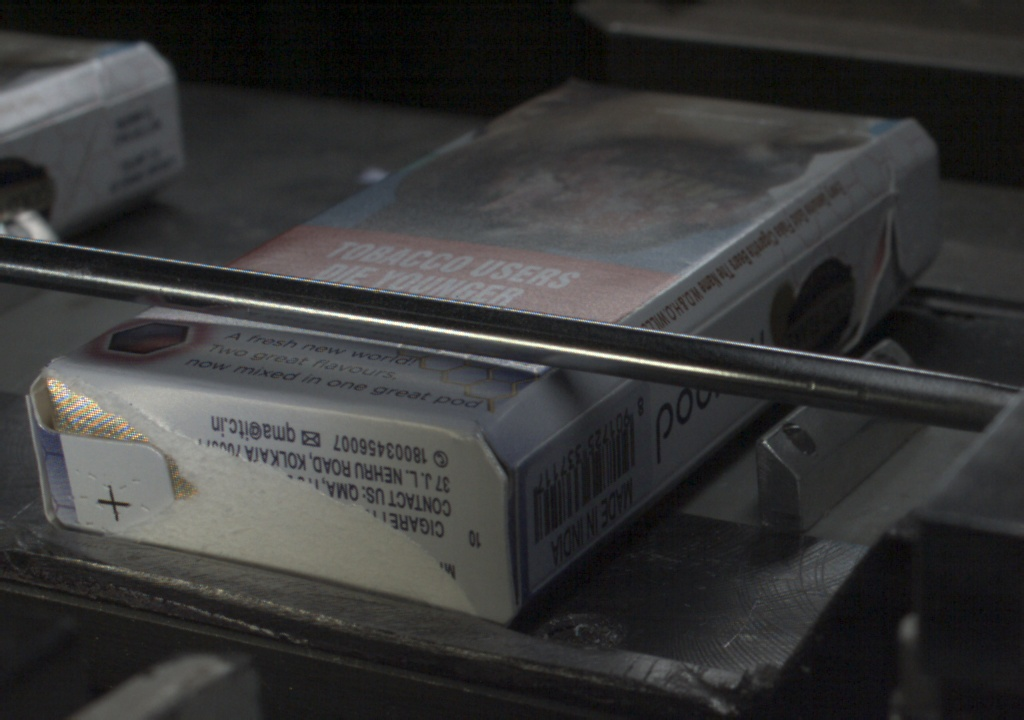g_lmiter: (700, 255, 803, 331), (803, 186, 893, 254), (512, 423, 570, 471), (570, 377, 629, 423)
ng_bottom: (23, 374, 203, 540), (145, 456, 331, 565), (308, 506, 460, 595)
ng_miter: (886, 138, 950, 305)
